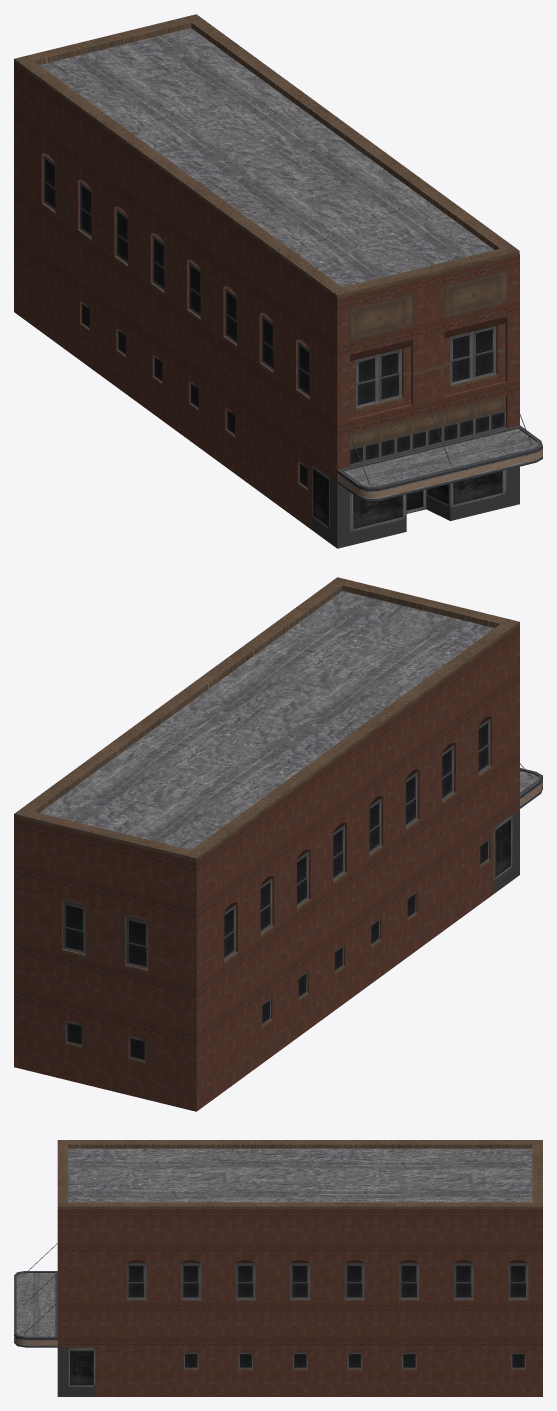
File: oldamericanbrickbuilding.fbx
3 views of the same model, one above another, from view 1: azimuth 30°, elevation 25°; view 2: azimuth 150°, elevation 25°; view 3: azimuth 270°, elevation 25° (orthographic). The views are drawn at different scales.
Parts seen in each view (by area): view 1: finishaobakeblendafterunit__1_; view 2: finishaobakeblendafterunit__1_; view 3: finishaobakeblendafterunit__1_.
Part boxes in pixels (x1,y1,x2,y2): finishaobakeblendafterunit__1_: (14,14,542,548); finishaobakeblendafterunit__1_: (14,577,542,1111); finishaobakeblendafterunit__1_: (14,1140,542,1396).
Bounding box in the file's own units: 2611 × 3463 × 8729.
Materials: 1 (1 with a texture image).
